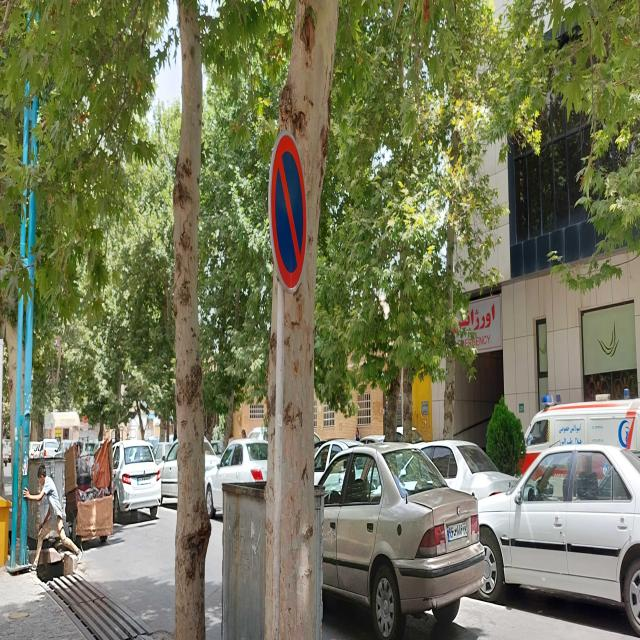forb_stopping: (269, 131, 307, 291)
